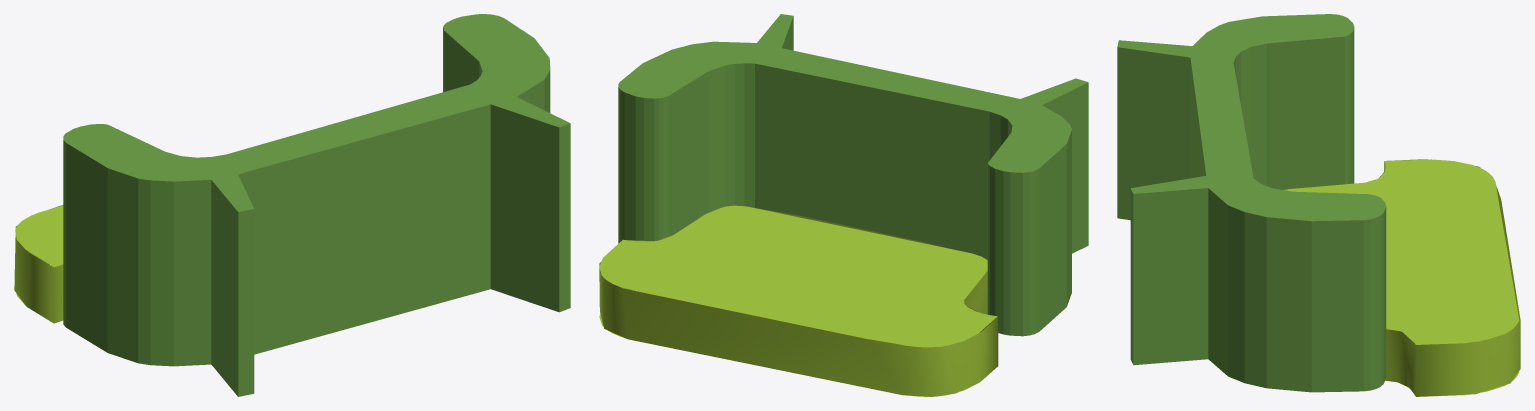
File: sofa3d2.glb
3 renders of one model, left to right at view 1: azimuth 30°, elevation 25°; view 2: azimuth 150°, elevation 25°; view 3: azimuth 270°, elevation 25°, orthographic. The views are drawn at different scales.
Parts seen in each view (by area): view 1: base, back; view 2: base, back; view 3: base, back.
Boxes of the visible parts, <box> form: base: <box>63,14,570,396</box>; back: <box>14,205,63,323</box>; base: <box>618,14,1088,336</box>; back: <box>599,205,998,396</box>; base: <box>1117,14,1386,392</box>; back: <box>1284,159,1520,396</box>.
Bounding box in the file's own units: 2.54 × 1.09 × 2.09.
